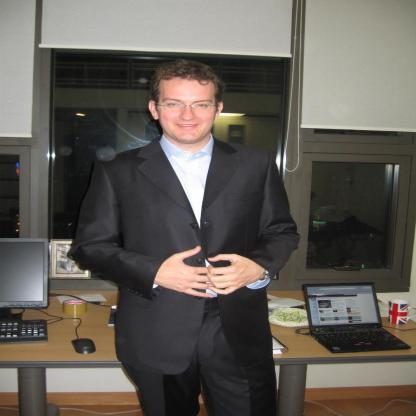board: (300, 281, 404, 360)
